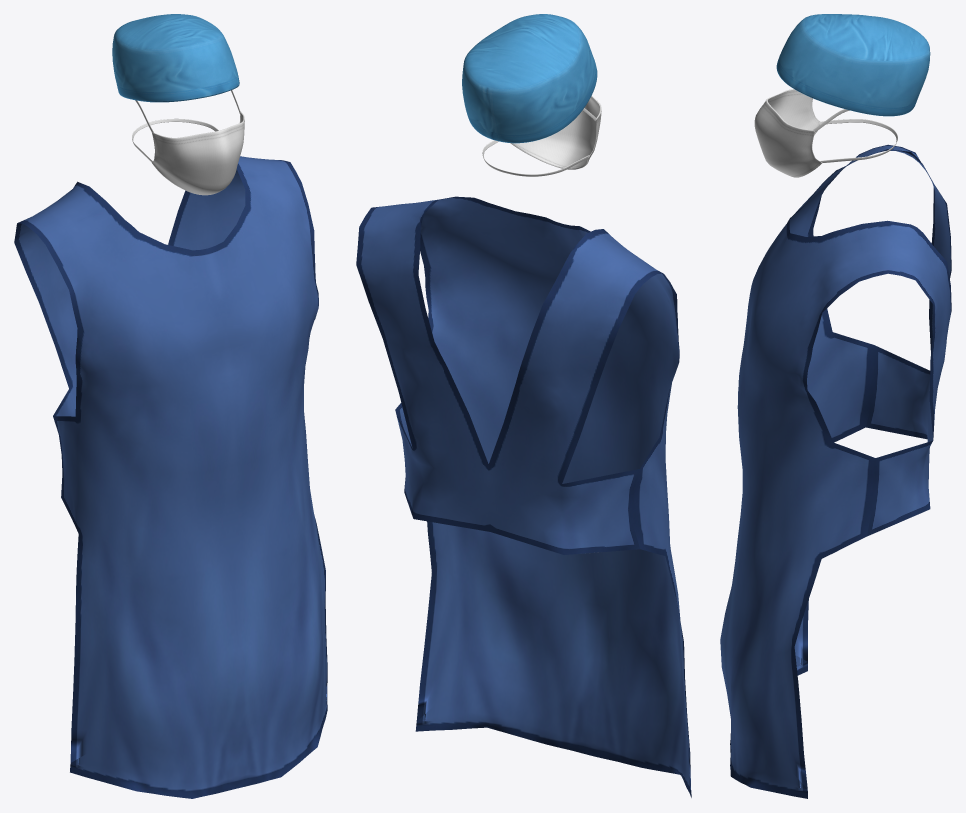
File: X Ray 1.obj
3 renders of one model, left to right at view 1: azimuth 30°, elevation 25°; view 2: azimuth 150°, elevation 25°; view 3: azimuth 270°, elevation 25°, orthographic. The views are drawn at different scales.
Visible parts, largest first — view 1: Protection, Mask002; view 2: Protection, Mask002; view 3: Protection, Mask002.
Part boxes in pixels (x1,y1,x2,y2): Protection: (14, 156, 327, 798); Mask002: (112, 14, 244, 195); Protection: (356, 196, 691, 797); Mask002: (462, 14, 601, 176); Protection: (720, 144, 951, 798); Mask002: (754, 14, 930, 177).
Size of what is drawn, in the model's own units: 17.02 by 44.89 by 12.81.
